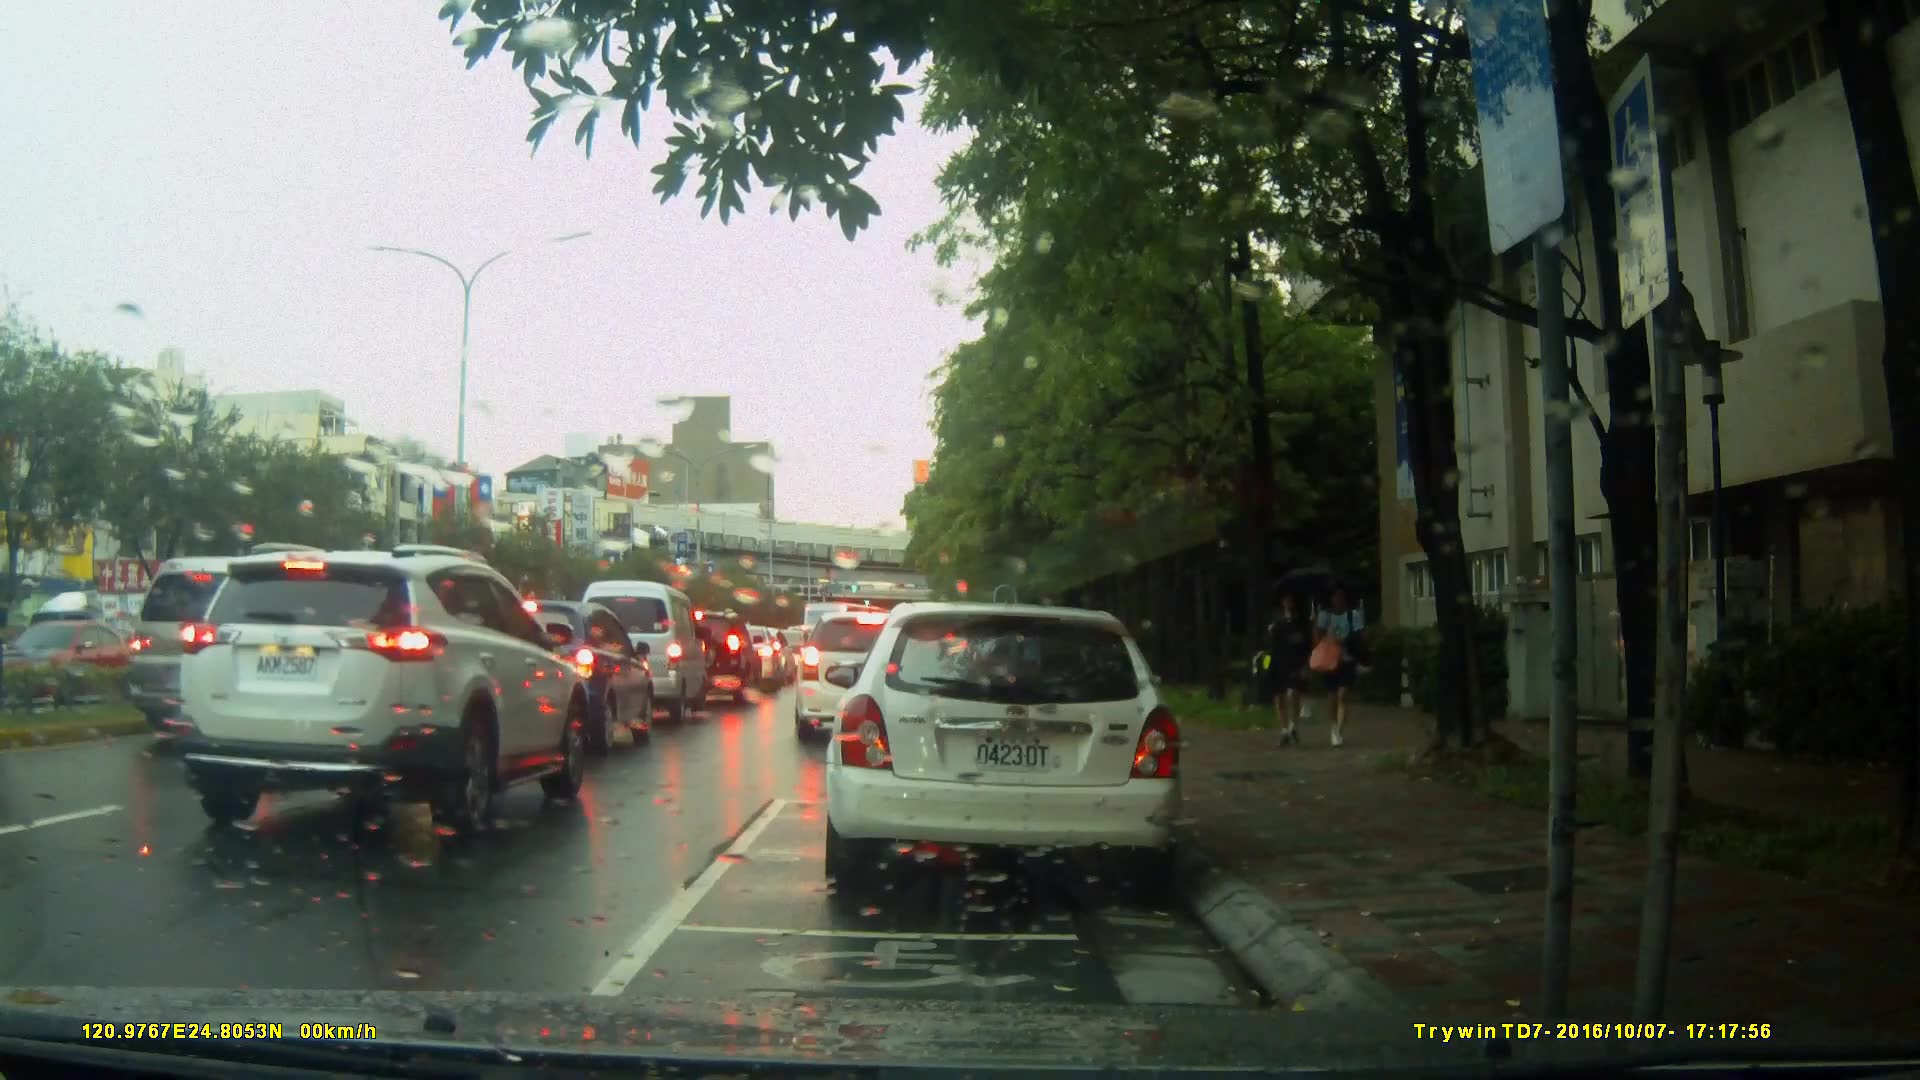pedestrian: (1304, 577, 1376, 754), (1253, 586, 1314, 750)
vehicle: (169, 539, 594, 843), (815, 593, 1204, 909), (127, 553, 329, 732), (462, 599, 658, 764), (559, 577, 706, 733), (789, 607, 940, 742), (1, 618, 138, 709), (656, 608, 765, 704)
